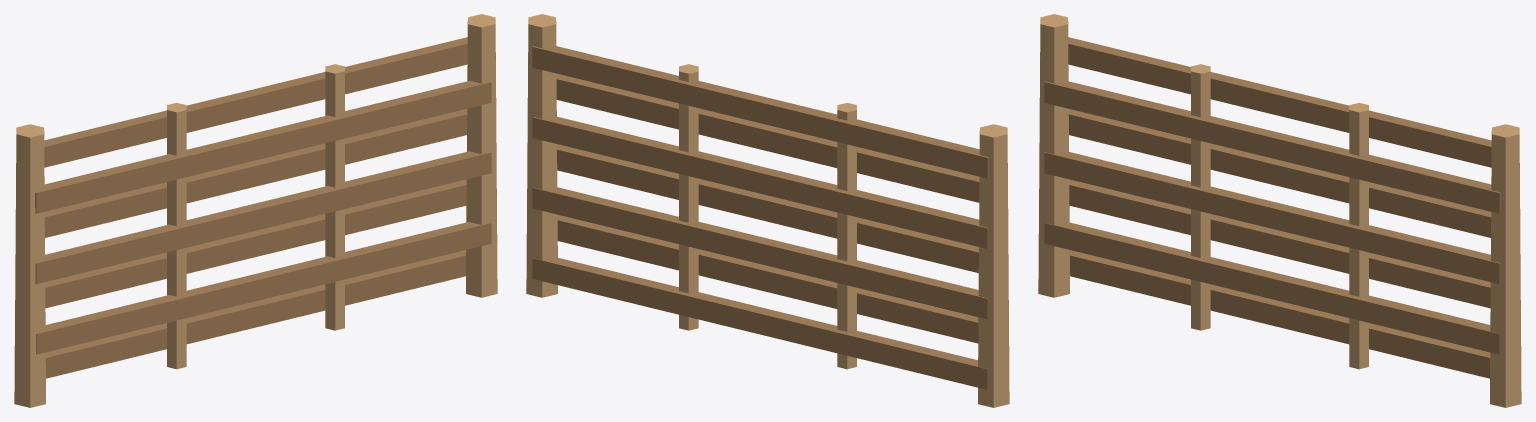
The model's file is hurdle-fence-run.glb.
3 views of the same model, side by side, from view 1: azimuth 30°, elevation 25°; view 2: azimuth 150°, elevation 25°; view 3: azimuth 330°, elevation 25° (orthographic).
Visible parts, largest first — view 1: hurdle-fence-run; view 2: hurdle-fence-run; view 3: hurdle-fence-run.
Part boxes in pixels (bbox=[...]): hurdle-fence-run: bbox=[14, 14, 497, 407]; hurdle-fence-run: bbox=[526, 14, 1009, 407]; hurdle-fence-run: bbox=[1038, 14, 1521, 407].
Bounding box in the file's own units: 2.44 × 1.3 × 0.1401.
